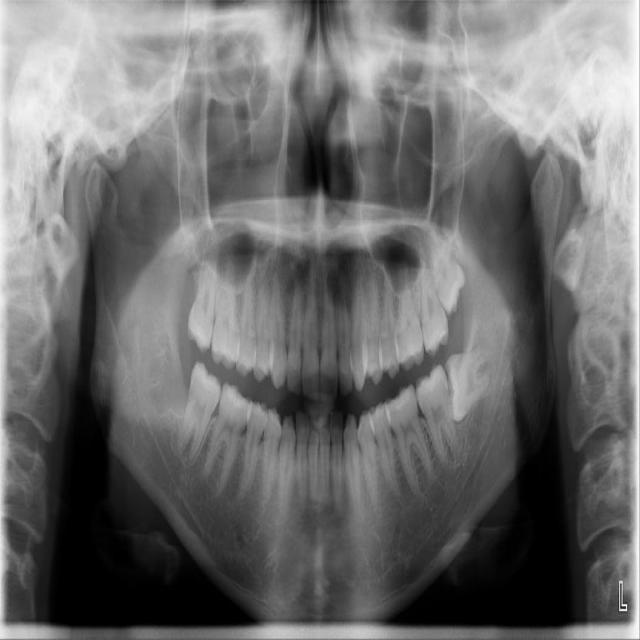impacted tooth: (419, 220, 467, 315), (448, 341, 490, 421)
